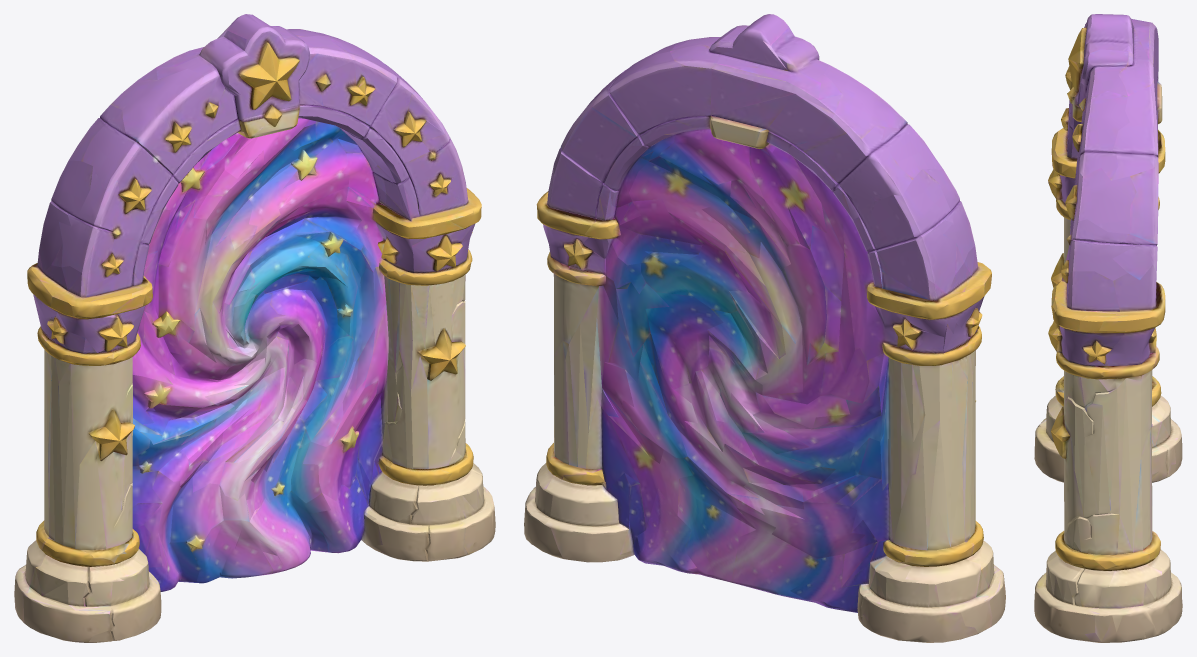
The model's file is place_portal_mobile.glb.
3 renders of one model, left to right at view 1: azimuth 30°, elevation 25°; view 2: azimuth 150°, elevation 25°; view 3: azimuth 270°, elevation 25°, orthographic. The views are drawn at different scales.
Size of the model in its own units: 1.65 by 1.9 by 0.4882.
Materials: 1 (1 with a texture image).
